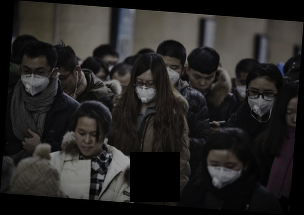with_mask: (204, 158, 242, 191), (20, 63, 52, 96), (247, 86, 277, 117), (134, 76, 159, 103), (163, 62, 182, 85), (234, 76, 249, 99)
without_mask: (73, 127, 105, 157), (187, 70, 216, 92), (56, 72, 78, 95), (284, 105, 297, 135)
